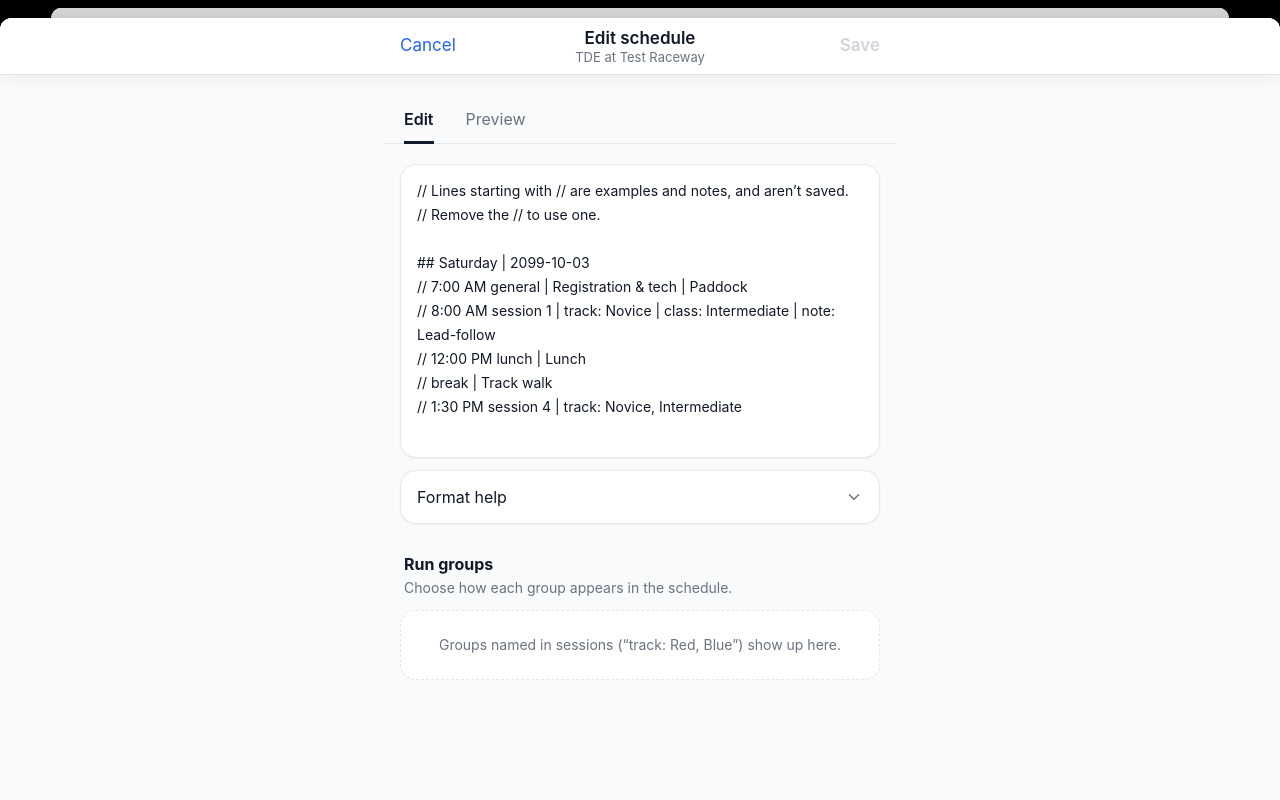
schedule editor (#232) › saves the groups and the markdown, then shows the event with its new schedule
Replace the text in the text box named "Schedule" with "## Saturday | 2099-10-03 07:30 general | Drivers meeting 08:00 session 1 | track: Red " at (640, 311), box [400,164,880,458]
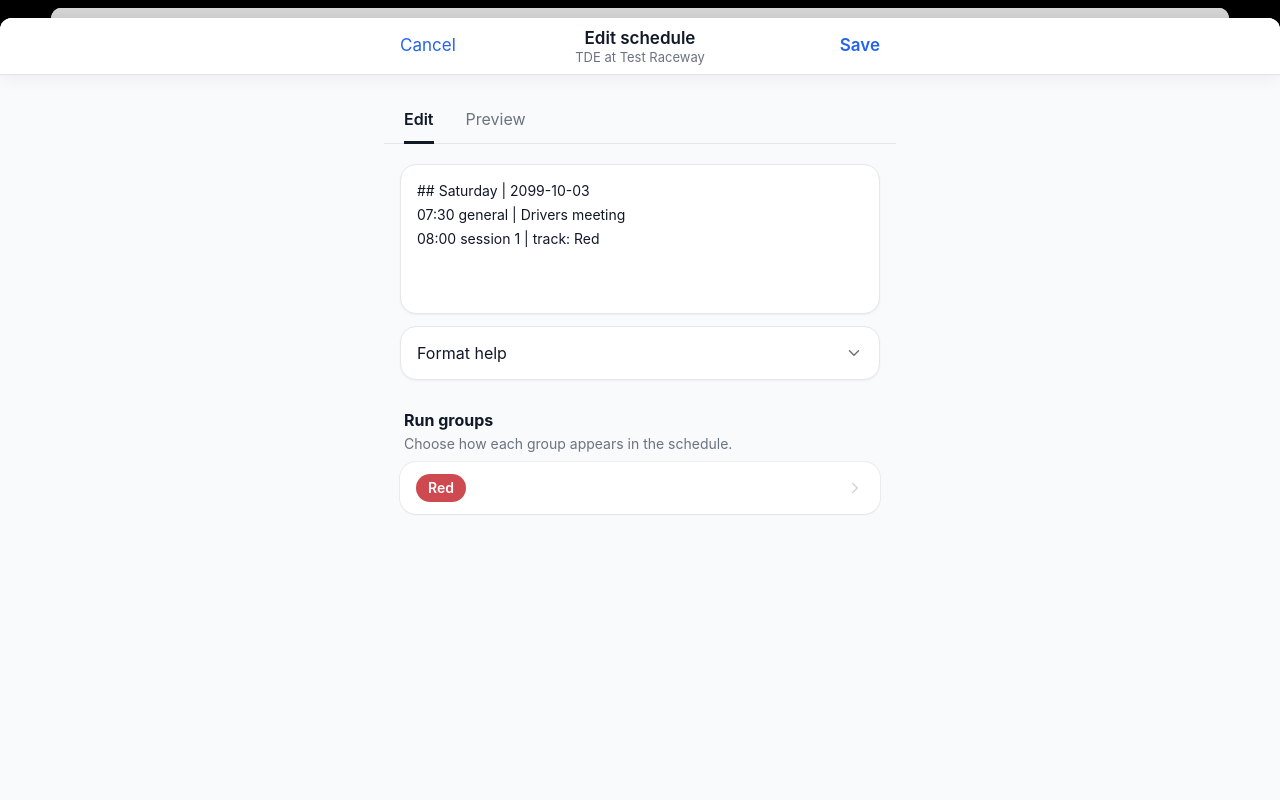
Click the button "Save" at (860, 46), box [832,25,888,67]
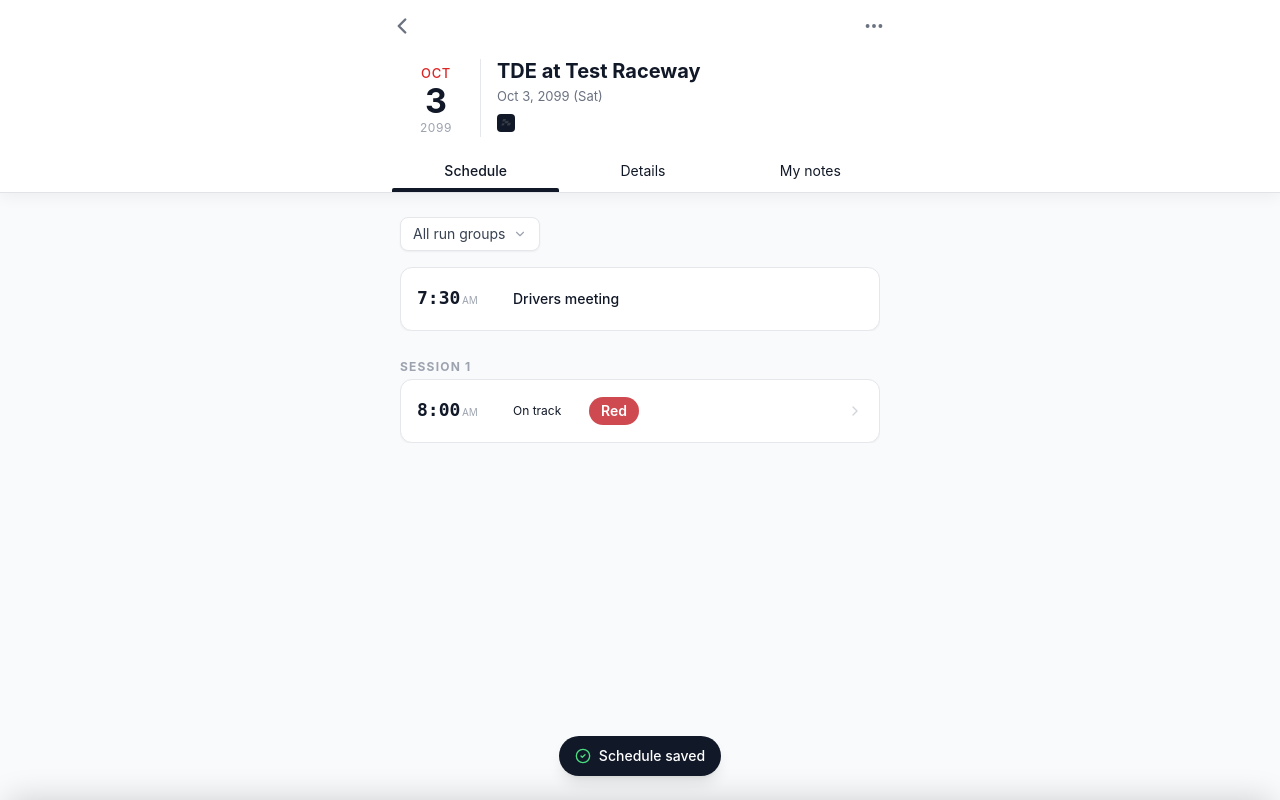
Result: the text "Schedule saved" is shown at [599,746,705,766]
Result: the text "Drivers meeting" is shown at [513,289,619,309]
